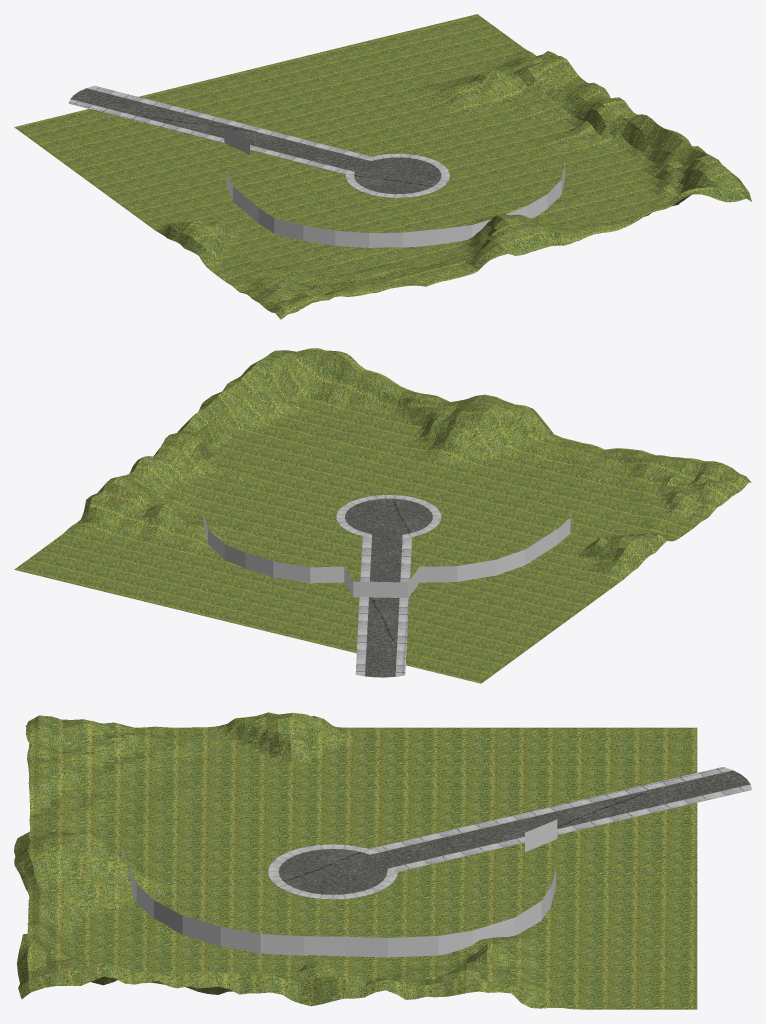
Rendered from map_terrain.gltf.
3 views of the same model, one above another, from view 1: azimuth 30°, elevation 25°; view 2: azimuth 150°, elevation 25°; view 3: azimuth 270°, elevation 25° (orthographic). The views are drawn at different scales.
Visible parts, largest first — view 1: Ground-col, CulDeSac, Boundary-col; view 2: Ground-col, CulDeSac, Boundary-col; view 3: Ground-col, CulDeSac, Boundary-col.
Part boxes in pixels (box(x1,y1,x2,y2)): Ground-col: box(14, 14, 751, 319); CulDeSac: box(68, 85, 449, 197); Boundary-col: box(224, 127, 564, 247); Ground-col: box(14, 348, 751, 683); CulDeSac: box(336, 495, 441, 677); Boundary-col: box(203, 505, 571, 597); Ground-col: box(14, 712, 697, 1009); CulDeSac: box(268, 767, 751, 899); Boundary-col: box(122, 819, 557, 957).
Size of the model in its own units: 729 by 51.46 by 789.
Materials: 3 (3 with a texture image).
